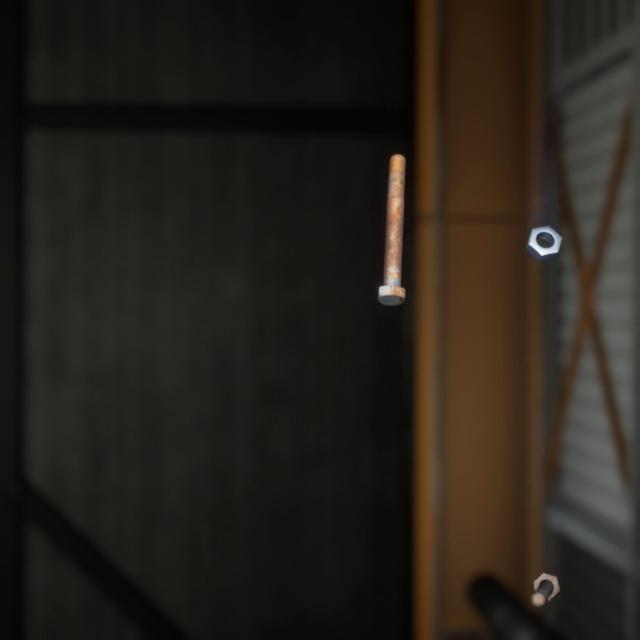bolt: (373, 135, 410, 295), (526, 545, 565, 587)
nut: (521, 205, 566, 250)
